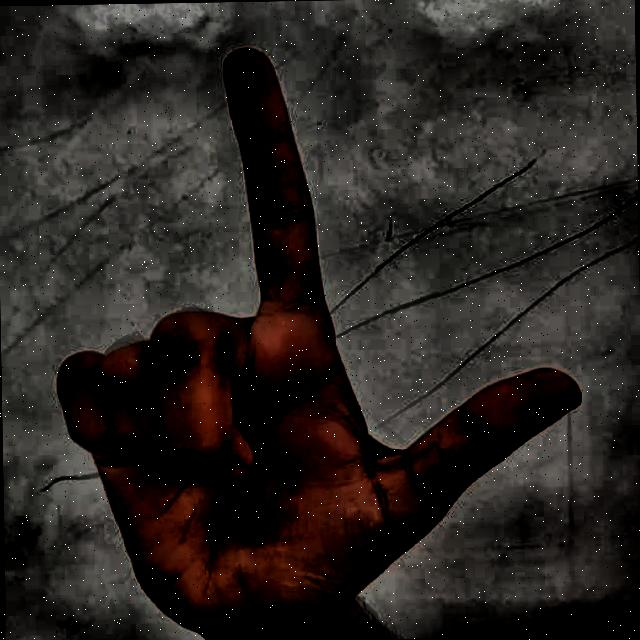La: (14, 14, 597, 640)
